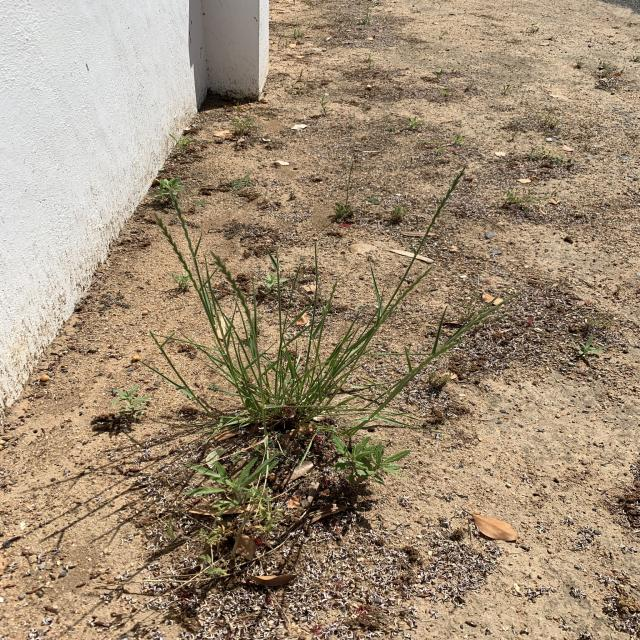Lolium: (439, 292, 522, 353), (152, 218, 200, 293), (380, 265, 437, 326), (212, 251, 252, 319), (429, 166, 467, 230), (168, 195, 198, 268), (323, 282, 338, 319)
